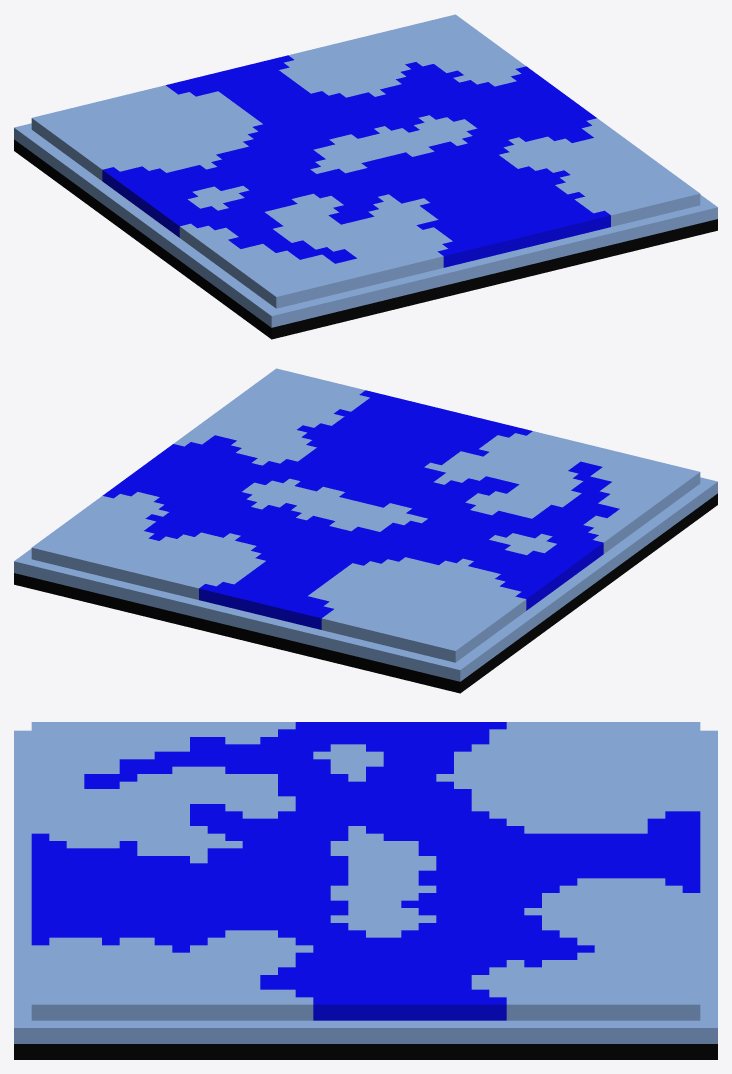
File: BoardPieceFive.fbx
3 renders of one model, top to bottom at view 1: azimuth 30°, elevation 25°; view 2: azimuth 150°, elevation 25°; view 3: azimuth 270°, elevation 25°, orthographic. The views are drawn at different scales.
Visible parts, largest first — view 1: boardGround5; view 2: boardGround5; view 3: boardGround5.
Part boxes in pixels (box(x1,y1,x2,y2)): boardGround5: box(14, 14, 717, 339); boardGround5: box(14, 368, 717, 693); boardGround5: box(14, 722, 717, 1059).
Bounding box in the file's own units: 400 × 30 × 400.
